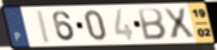0: (83, 9, 109, 42)
4: (113, 7, 136, 42)
6: (52, 10, 76, 42)
B: (136, 7, 168, 41)
I: (34, 9, 52, 45)
X: (161, 6, 197, 40)
